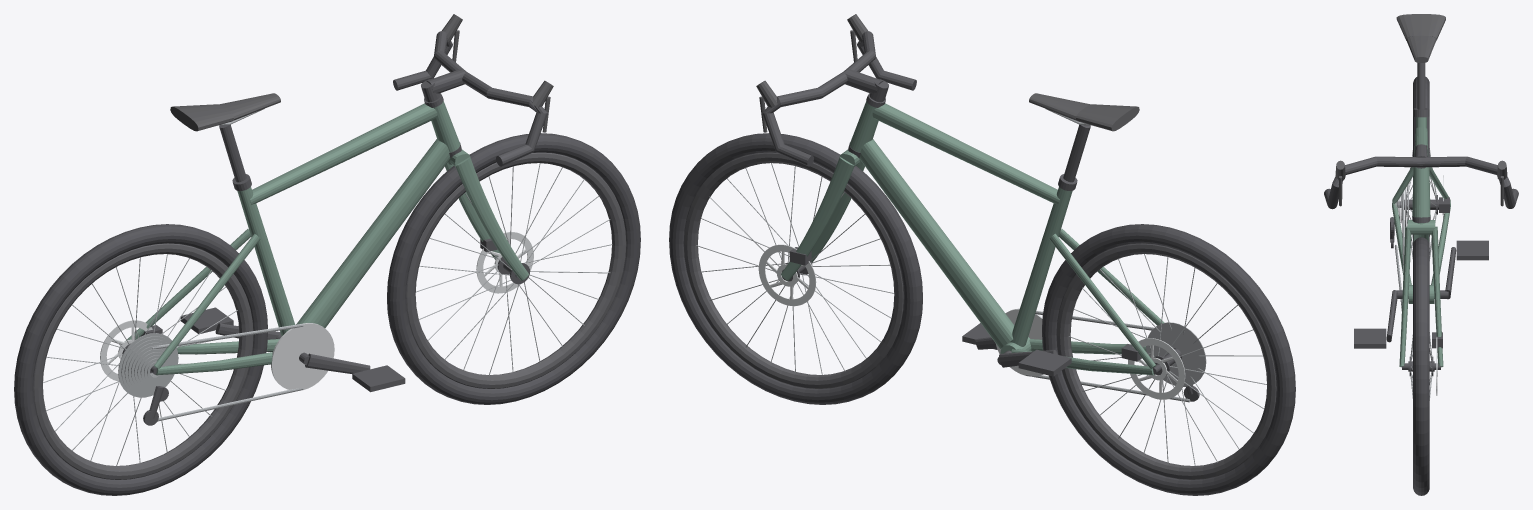
Rendered from road-cc-boasting-space-for-55mm-tyres-and-its-li.glb.
The picture shows the model from 3 angles, left to right: view 1: azimuth 30°, elevation 25°; view 2: azimuth 150°, elevation 25°; view 3: azimuth 270°, elevation 25°; orthographic projection. The views are drawn at different scales.
Parts seen in each view (by area): view 1: rear_wheel_tire, front_wheel_tire, front_wheel_rim, rear_wheel_rim, frame_downtube, frame_toptube, cockpit_dropbar, front_wheel_spokes, drivetrain_chainring, drivetrain_crankset, fork_rigid_blades, drivetrain_cassette (+12 smaller); view 2: rear_wheel_tire, front_wheel_tire, rear_wheel_rim, front_wheel_rim, frame_downtube, frame_toptube, cockpit_dropbar, fork_rigid_blades, front_wheel_spokes, frame_seattube, rear_wheel_spokes, rear_seatstays (+11 smaller); view 3: front_wheel_tire, cockpit_dropbar, drivetrain_crankset, fork_rigid_blades, saddle_shell, frame_headtube, rear_chainstays, cockpit_shifter_hoods, rear_wheel_tire, rear_seatstays, seatpost_aero, drivetrain_chain (+7 smaller).
Part boxes in pixels (<box>): rear_wheel_tire: <box>14,224,267,495</box>; front_wheel_tire: <box>387,133,640,404</box>; front_wheel_rim: <box>406,152,626,388</box>; rear_wheel_rim: <box>33,243,253,479</box>; frame_downtube: <box>296,139,450,328</box>; frame_toptube: <box>250,103,437,204</box>; cockpit_dropbar: <box>393,31,547,166</box>; front_wheel_spokes: <box>416,163,612,375</box>; drivetrain_chainring: <box>271,323,334,390</box>; drivetrain_crankset: <box>180,307,405,392</box>; fork_rigid_blades: <box>445,149,528,280</box>; drivetrain_cassette: <box>118,333,178,397</box>; rear_wheel_tire: <box>1042,224,1295,495</box>; front_wheel_tire: <box>669,133,922,404</box>; rear_wheel_rim: <box>1056,243,1276,479</box>; front_wheel_rim: <box>683,152,903,388</box>; frame_downtube: <box>859,139,1014,348</box>; frame_toptube: <box>872,103,1059,204</box>; cockpit_dropbar: <box>762,31,916,166</box>; fork_rigid_blades: <box>781,149,864,280</box>; front_wheel_spokes: <box>696,163,894,374</box>; frame_seattube: <box>1010,187,1072,346</box>; rear_wheel_spokes: <box>1068,254,1266,465</box>; rear_seatstays: <box>1049,229,1164,368</box>; front_wheel_tire: <box>1413,237,1429,495</box>; cockpit_dropbar: <box>1324,156,1518,209</box>; drivetrain_crankset: <box>1354,240,1488,348</box>; fork_rigid_blades: <box>1399,220,1443,367</box>; saddle_shell: <box>1396,14,1445,62</box>; frame_headtube: <box>1412,167,1430,217</box>; rear_chainstays: <box>1392,203,1450,284</box>; cockpit_shifter_hoods: <box>1335,160,1507,206</box>; rear_wheel_tire: <box>1413,76,1429,243</box>; rear_seatstays: <box>1392,167,1450,203</box>; seatpost_aero: <box>1417,62,1425,109</box>; drivetrain_chain: <box>1395,192,1404,310</box>.
Bounding box in the file's own units: 1.75 × 0.9842 × 0.5316.
